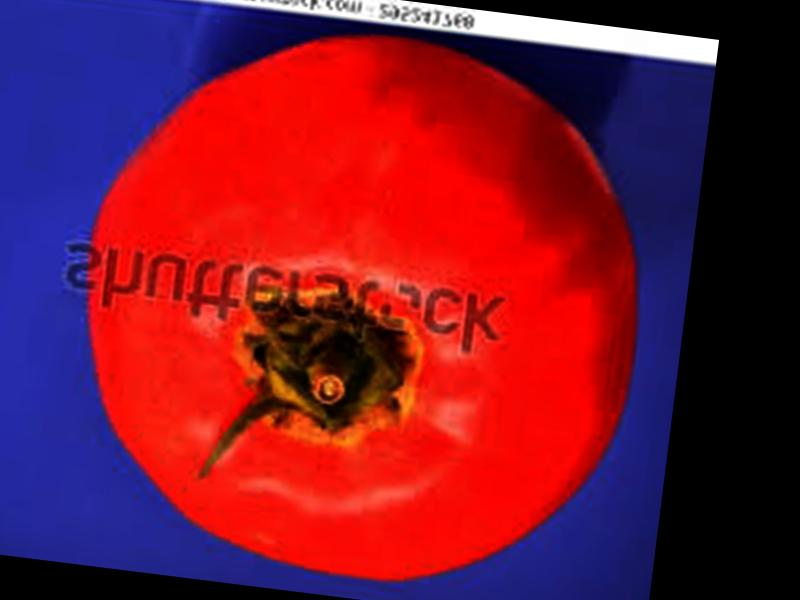Tomato: (54, 13, 669, 600)
